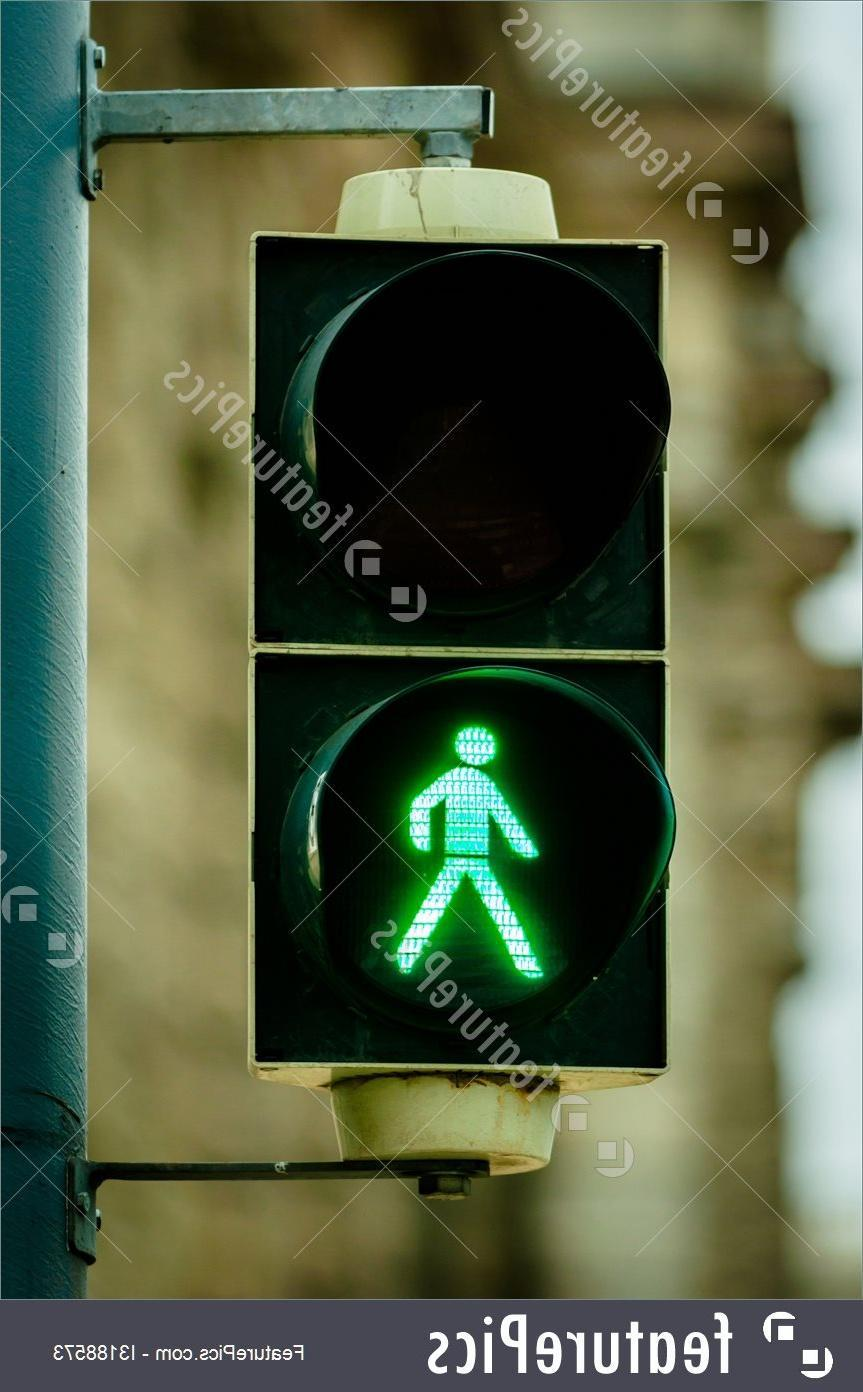green: (203, 197, 697, 1107)
